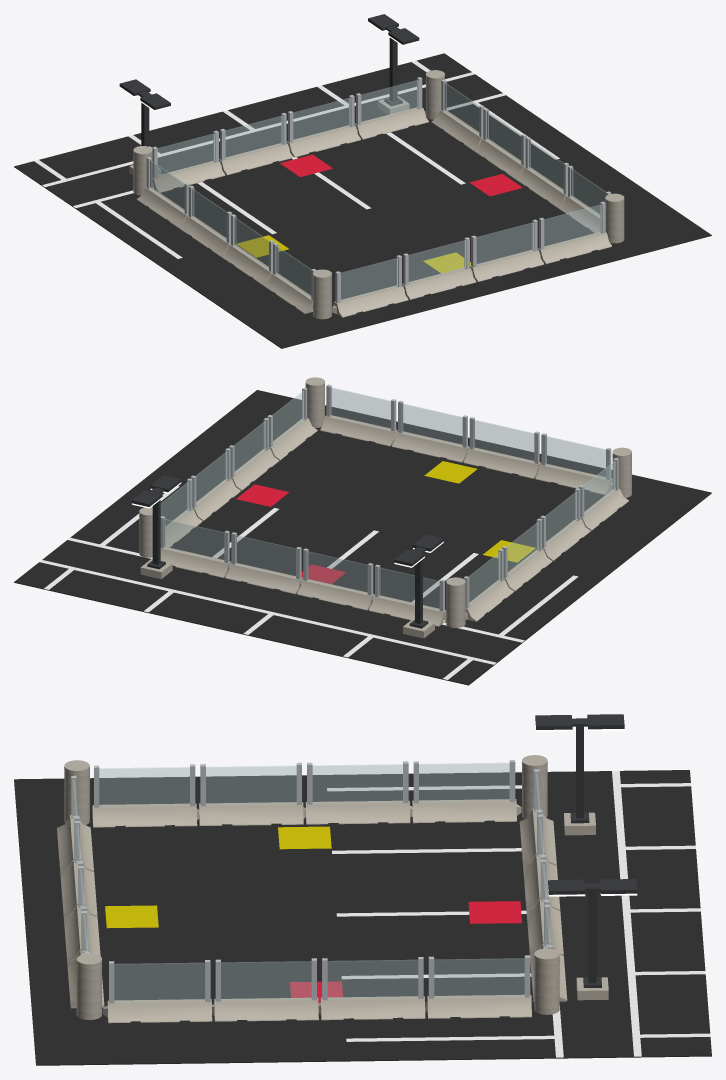
The model's file is estacionamiento.fbx.
The picture shows the model from 3 angles, top to bottom: view 1: azimuth 30°, elevation 25°; view 2: azimuth 150°, elevation 25°; view 3: azimuth 270°, elevation 25°; orthographic projection. The views are drawn at different scales.
Parts seen in each view (by area): view 1: Object_10, Object_4, Object_2, Object_3, Object_7, Object_8, Object_5, Object_5.001, Object_9, Object_9.001; view 2: Object_10, Object_4, Object_2, Object_3, Object_7, Object_8, Object_5, Object_9.001, Object_9, Object_5.001; view 3: Object_10, Object_4, Object_2, Object_7, Object_3, Object_8, Object_5.001, Object_9.001, Object_9, Object_5.
Boxes of the visible parts, x1,y1,x2,y2 form: Object_10: (14,53,711,348); Object_4: (129,70,624,319); Object_2: (150,80,605,300); Object_3: (146,77,611,303); Object_7: (34,60,559,258); Object_8: (119,14,419,146); Object_5: (469,174,522,196); Object_5.001: (280,154,332,177); Object_9: (236,235,289,257); Object_9.001: (423,252,470,273); Object_10: (14,390,711,685); Object_4: (139,377,631,638); Object_2: (161,387,615,609); Object_3: (160,384,618,611); Object_7: (39,486,578,679); Object_8: (132,475,443,628); Object_5: (236,484,289,506); Object_9.001: (424,461,477,483); Object_9: (483,540,535,562); Object_5.001: (301,564,345,583); Object_10: (14,770,711,1065); Object_4: (57,755,608,1023); Object_2: (73,763,550,1000); Object_7: (327,771,710,1057); Object_3: (71,760,552,1003); Object_8: (535,714,637,987); Object_5.001: (468,901,521,923); Object_9.001: (105,905,158,928); Object_9: (278,826,331,849); Object_5: (290,981,342,1003).
Size of the model in its own units: 85.87 by 14.83 by 85.87.
